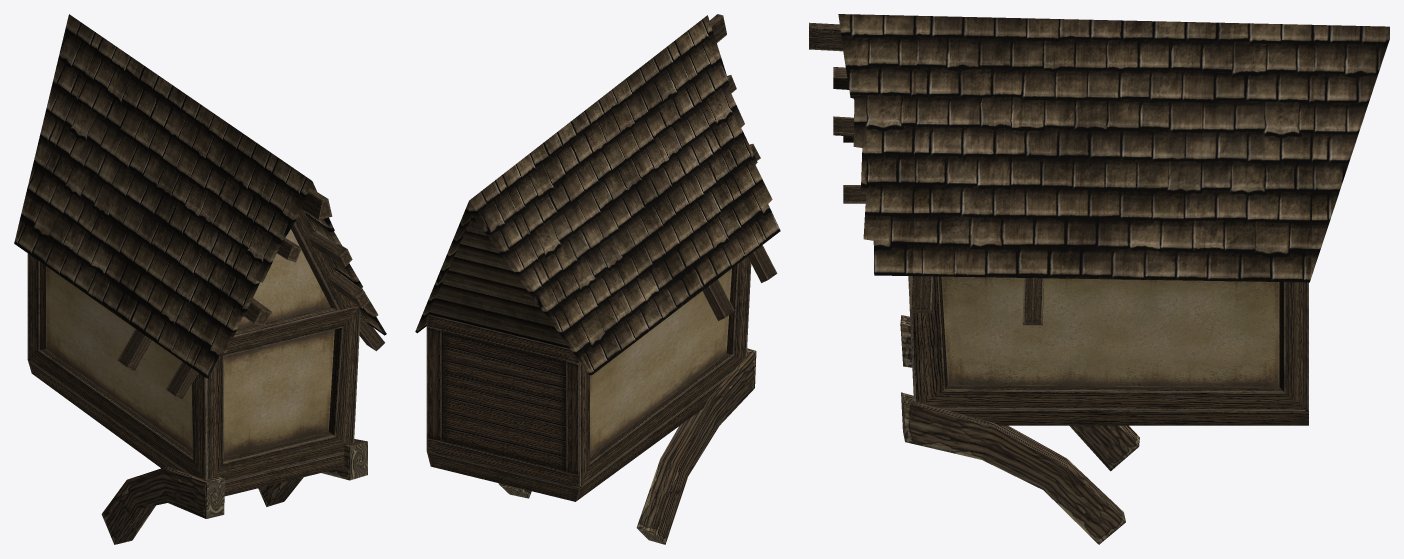
The model's file is Window_a04.fbx.
The picture shows the model from 3 angles, left to right: view 1: azimuth 30°, elevation 25°; view 2: azimuth 150°, elevation 25°; view 3: azimuth 270°, elevation 25°; orthographic projection. The views are drawn at different scales.
Visible parts, largest first — view 1: Window_a04; view 2: Window_a04; view 3: Window_a04.
Boxes of the visible parts, bbox=[...] form: Window_a04: bbox=[14, 14, 386, 544]; Window_a04: bbox=[415, 14, 780, 544]; Window_a04: bbox=[809, 14, 1389, 544].
Bounding box in the file's own units: 3.76 × 7.24 × 7.76.
